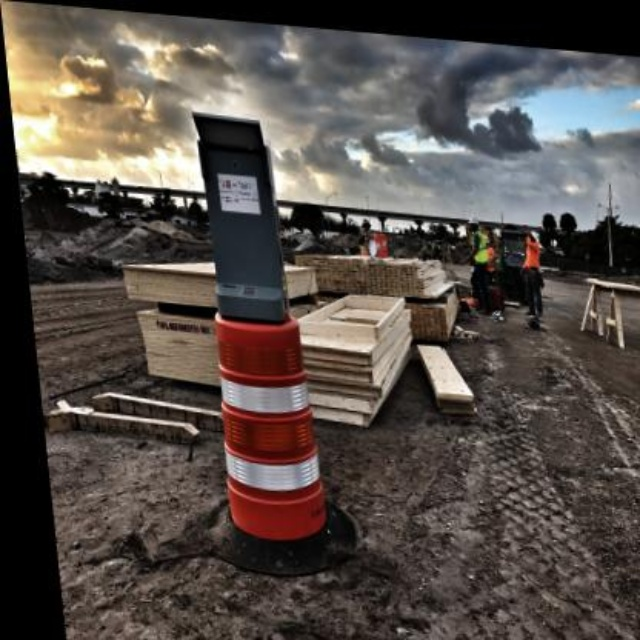obstacle: (197, 304, 326, 543)
